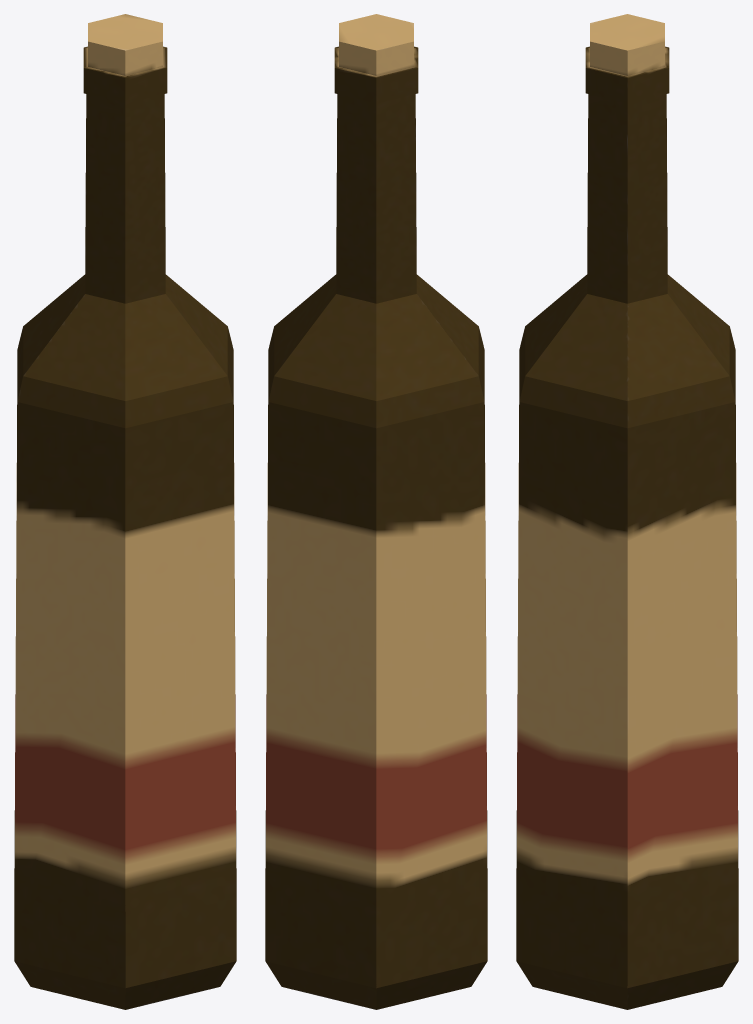
Rendered from SM_Food_Bottle_04.fbx.
The picture shows the model from 3 angles, left to right: view 1: azimuth 30°, elevation 25°; view 2: azimuth 150°, elevation 25°; view 3: azimuth 270°, elevation 25°; orthographic projection.
Parts seen in each view (by area): view 1: SM_Food_Bottle_04; view 2: SM_Food_Bottle_04; view 3: SM_Food_Bottle_04.
Part boxes in pixels (x1,y1,x2,y2): SM_Food_Bottle_04: (14,14,236,1009); SM_Food_Bottle_04: (265,14,487,1009); SM_Food_Bottle_04: (516,14,738,1009).
Bounding box in the file's own units: 0.0765 × 0.3061 × 0.0663.
